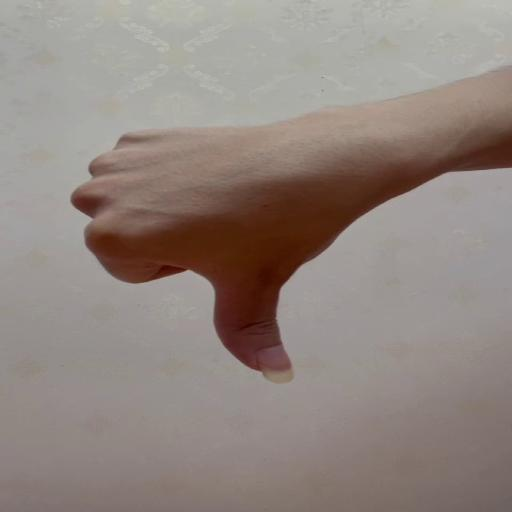thumbs_down: (70, 126, 422, 385)
